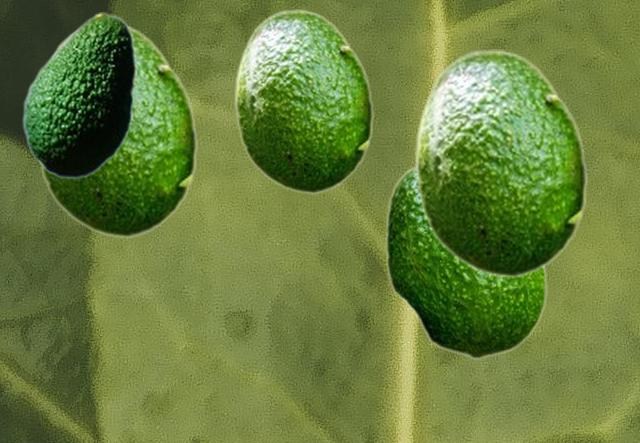avocado: (413, 49, 587, 277), (36, 22, 197, 237), (384, 164, 546, 358), (233, 9, 373, 193), (22, 12, 135, 178)
